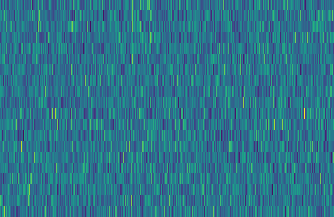signal: (126, 0, 136, 217)
